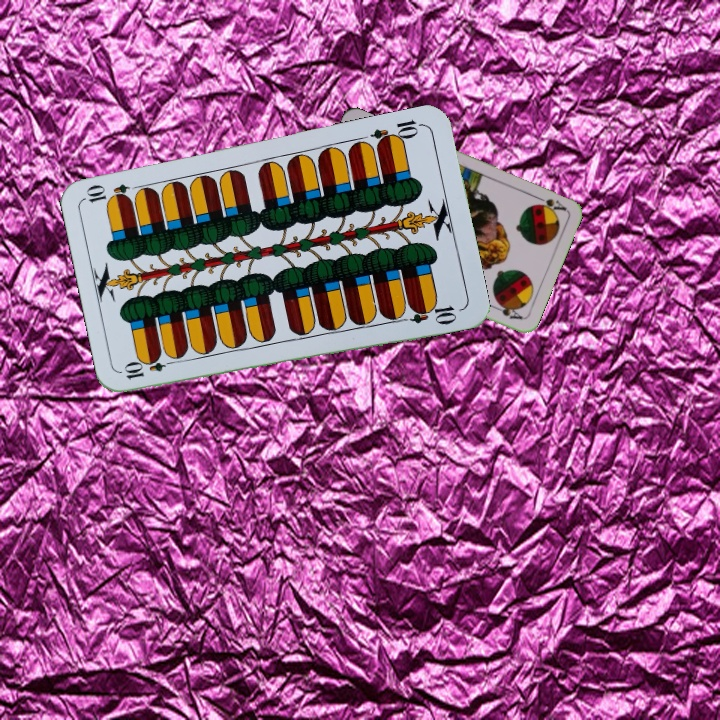E10: (367, 115, 426, 150), (120, 354, 179, 382)
SA: (529, 191, 569, 214)
